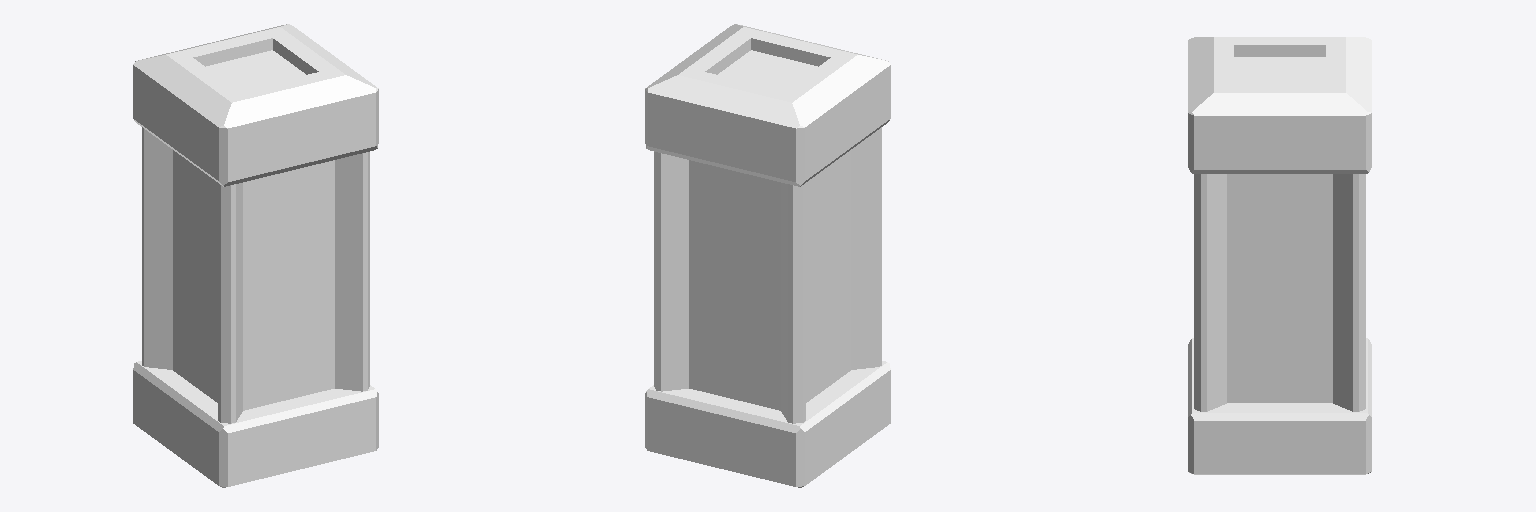
File: Battery-Type-0.obj
3 renders of one model, left to right at view 1: azimuth 30°, elevation 25°; view 2: azimuth 150°, elevation 25°; view 3: azimuth 270°, elevation 25°, orthographic.
Parts seen in each view (by area): view 1: Battery-Type-0; view 2: Battery-Type-0; view 3: Battery-Type-0.
Part boxes in pixels (x1,y1,x2,y2): Battery-Type-0: (133,24,378,487); Battery-Type-0: (645,24,890,487); Battery-Type-0: (1188,37,1371,474).
Size of the model in its own units: 0.7 by 1.6 by 0.7.